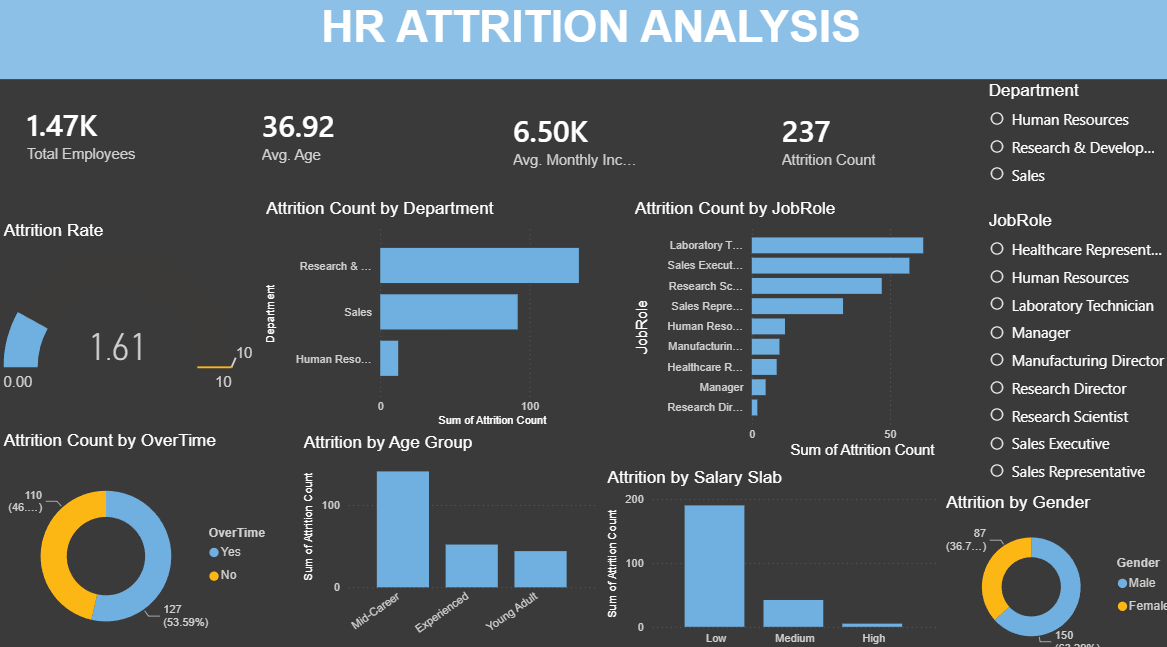

What the dashboard file says about the page in this screenshot:
{"tool":"powerbi","page":{"name":"Page 1","canvas":[1280,720],"ordinal":0},"visuals":[{"type":"cardVisual","fields":{"Data":["CountNonNull(Employee Status.EmployeeCount)"]},"box":[0,88.9,183.3,114.6],"z":0},{"type":"cardVisual","fields":{"Data":["Avg(Employee Status.Age)"]},"box":[254.7,90.3,183.3,114.6],"z":1000},{"type":"cardVisual","fields":{"Data":["Avg(Employee Status.MonthlyIncome)"]},"box":[525.6,95.7,192.7,114.6],"z":2000},{"type":"cardVisual","fields":{"Data":["Sum(Employee Status.Attrition Count)"]},"box":[816.7,95.7,202.1,114.6],"z":3000},{"type":"listSlicer","fields":{"Values":["Employee Status.Department"]},"box":[1064.6,90.3,215.6,126.7],"z":4000},{"type":"listSlicer","fields":{"Values":["Employee Status.JobRole"]},"box":[1064.6,230.4,215.6,304.6],"z":5000},{"type":"donutChart","title":"Attrition by Gender ","fields":{"Category":["Employee Status.Gender"],"Y":["Sum(Employee Status.Attrition Count)"]},"box":[1018.8,535,261.4,184.6],"z":6000},{"type":"textbox","box":[0,0,1280.3,89.2],"z":7000},{"type":"clusteredBarChart","title":"Attrition Count by Department","fields":{"Category":["Employee Status.Department"],"Y":["Sum(Employee Status.Attrition Count)"]},"box":[284.4,217,386.8,252],"z":8000},{"type":"clusteredBarChart","title":"Attrition Count by JobRole","fields":{"Category":["Employee Status.JobRole"],"Y":["Sum(Employee Status.Attrition Count)"]},"box":[681.9,217,382.7,285.7],"z":9000},{"type":"clusteredColumnChart","title":"Attrition by Age Group","fields":{"Category":["Employee Status.Age Group"],"Y":["Sum(Employee Status.Attrition Count)"]},"box":[324.7,469.9,327.4,250.7],"z":10000},{"type":"donutChart","title":"Attrition Count by OverTime","fields":{"Category":["Employee Status.OverTime"],"Y":["Sum(Employee Status.Attrition Count)"]},"box":[0,469,312.7,250.7],"z":11000},{"type":"clusteredColumnChart","title":"Attrition by Salary Slab","fields":{"Category":["Employee Status.Salary Slab"],"Y":["Sum(Employee Status.Attrition Count)"]},"box":[652.3,508.1,366.6,211.6],"z":12000},{"type":"gauge","title":"Attrition Rate","fields":{"Y":["Employee Status.Attrition Rate"],"MaxValue":["Employee Status.target attrition"],"TargetValue":["Employee Status.target attrition"]},"box":[0,241.2,284.4,200.8],"z":13000}]}

Visuals, with their boxes in screenshot pixels (x1, y1, x2, y2), scaled from the page's 1280x720 canvas onto the 1167x647 screenshot:
cardVisual - CountNonNull(Employee Status.EmployeeCount): <region>0, 80, 167, 183</region>
cardVisual - Avg(Employee Status.Age): <region>232, 81, 399, 184</region>
cardVisual - Avg(Employee Status.MonthlyIncome): <region>479, 86, 655, 189</region>
cardVisual - Sum(Employee Status.Attrition Count): <region>745, 86, 929, 189</region>
listSlicer - Employee Status.Department: <region>971, 81, 1166, 195</region>
listSlicer - Employee Status.JobRole: <region>971, 207, 1166, 481</region>
"Attrition by Gender " donutChart: <region>929, 481, 1166, 646</region>
textbox: <region>0, 0, 1166, 80</region>
"Attrition Count by Department" clusteredBarChart: <region>259, 195, 612, 421</region>
"Attrition Count by JobRole" clusteredBarChart: <region>622, 195, 971, 452</region>
"Attrition by Age Group" clusteredColumnChart: <region>296, 422, 595, 646</region>
"Attrition Count by OverTime" donutChart: <region>0, 421, 285, 646</region>
"Attrition by Salary Slab" clusteredColumnChart: <region>595, 457, 929, 646</region>
"Attrition Rate" gauge: <region>0, 217, 259, 397</region>
